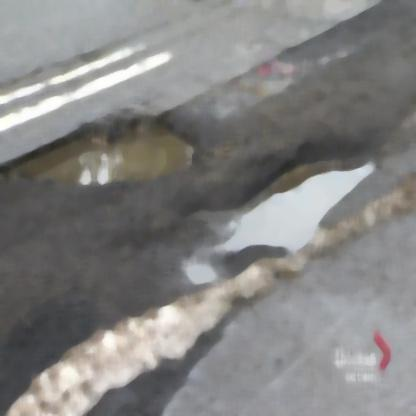Potholes: (212, 142, 366, 251), (15, 104, 202, 182)
